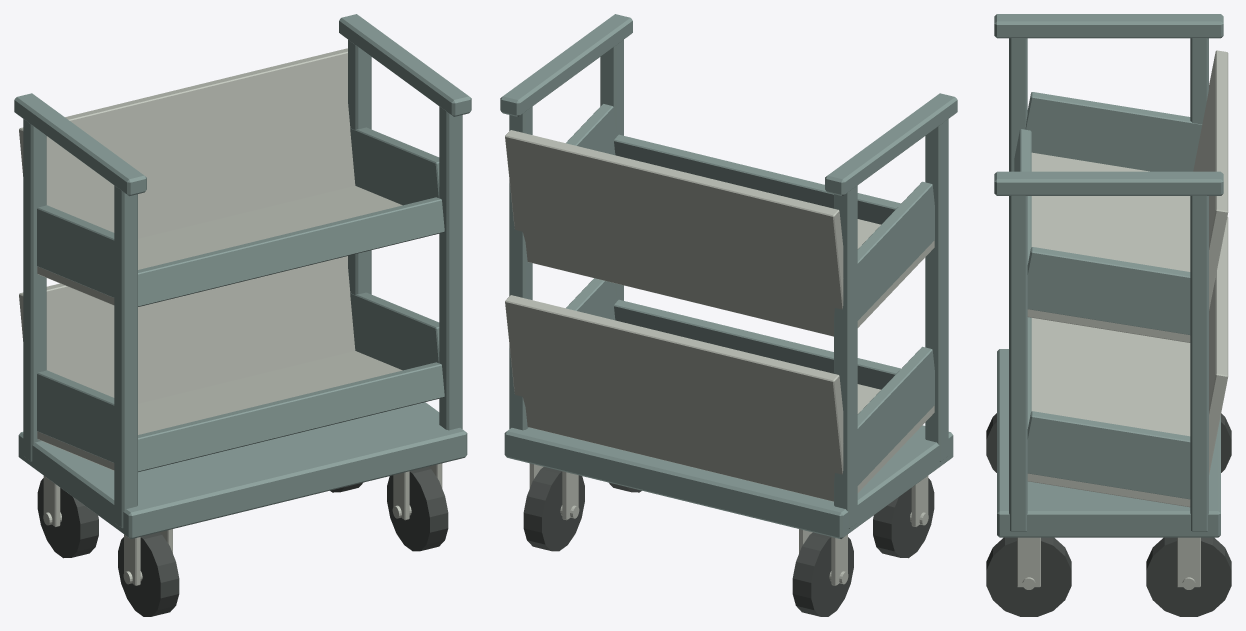
The picture shows the model from 3 angles, left to right: view 1: azimuth 30°, elevation 25°; view 2: azimuth 150°, elevation 25°; view 3: azimuth 270°, elevation 25°; orthographic projection.
Visible parts, largest first — view 1: Sorting shelf 1 continuous backstop, Sorting shelf 0 continuous backstop, Lower rigid caster chassis, Sorting shelf 1 front retaining lip, Sorting shelf 0 front retaining lip, Sorting shelf 1 floor, Sorting shelf 0 floor, Side upright -0.35 -0.17, Side upright 0.35 -0.17, Side upright -0.35 0.17, Sorting shelf 1 side stop -0.344, Sorting shelf 0 side stop -0.344 (+11 smaller); view 2: Sorting shelf 0 continuous backstop, Sorting shelf 1 continuous backstop, Lower rigid caster chassis, Side upright -0.35 -0.17, Side upright -0.35 0.17, Sorting shelf 0 front retaining lip, Sorting shelf 1 front retaining lip, Sorting shelf 0 side stop -0.344, Sorting shelf 1 side stop -0.344, Upper side handle rail -0.35, Upper side handle rail 0.35, Flat tread caster wheel.003 (+11 smaller); view 3: Sorting shelf 0 floor, Sorting shelf 1 floor, Lower rigid caster chassis, Sorting shelf 0 side stop 0.344, Sorting shelf 1 side stop 0.344, Sorting shelf 1 side stop -0.344, Side upright 0.35 -0.17, Side upright 0.35 0.17, Upper side handle rail 0.35, Upper side handle rail -0.35, Flat tread caster wheel.002, Flat tread caster wheel.003 (+10 smaller).
Boxes of the visible parts, bbox=[...] form: Sorting shelf 1 continuous backstop: bbox=[19, 48, 355, 238]; Sorting shelf 0 continuous backstop: bbox=[19, 256, 355, 403]; Lower rigid caster chassis: bbox=[18, 402, 467, 538]; Sorting shelf 1 front retaining lip: bbox=[138, 197, 444, 306]; Sorting shelf 0 front retaining lip: bbox=[138, 362, 444, 471]; Sorting shelf 1 floor: bbox=[37, 185, 402, 305]; Sorting shelf 0 floor: bbox=[37, 351, 402, 470]; Side upright -0.35 -0.17: bbox=[114, 185, 137, 528]; Side upright 0.35 -0.17: bbox=[439, 106, 462, 430]; Side upright -0.35 0.17: bbox=[23, 119, 46, 461]; Sorting shelf 1 side stop -0.344: bbox=[37, 205, 114, 297]; Sorting shelf 0 side stop -0.344: bbox=[37, 370, 114, 462]; Sorting shelf 0 continuous backstop: bbox=[505, 295, 843, 501]; Sorting shelf 1 continuous backstop: bbox=[505, 130, 843, 336]; Lower rigid caster chassis: bbox=[504, 425, 953, 538]; Side upright -0.35 -0.17: bbox=[925, 119, 948, 461]; Side upright -0.35 0.17: bbox=[834, 185, 857, 528]; Sorting shelf 0 front retaining lip: bbox=[614, 299, 900, 389]; Sorting shelf 1 front retaining lip: bbox=[614, 134, 900, 224]; Sorting shelf 0 side stop -0.344: bbox=[843, 346, 934, 485]; Sorting shelf 1 side stop -0.344: bbox=[843, 181, 934, 320]; Upper side handle rail -0.35: bbox=[825, 93, 957, 196]; Upper side handle rail 0.35: bbox=[500, 14, 632, 116]; Flat tread caster wheel.003: bbox=[523, 467, 584, 551]; Sorting shelf 0 floor: bbox=[1027, 318, 1190, 507]; Sorting shelf 1 floor: bbox=[1027, 152, 1190, 342]; Lower rigid caster chassis: bbox=[997, 349, 1220, 537]; Sorting shelf 0 side stop 0.344: bbox=[1027, 411, 1190, 499]; Sorting shelf 1 side stop 0.344: bbox=[1027, 247, 1190, 334]; Sorting shelf 1 side stop -0.344: bbox=[1025, 92, 1202, 171]; Side upright 0.35 -0.17: bbox=[1009, 195, 1027, 531]; Side upright 0.35 0.17: bbox=[1190, 195, 1208, 531]; Upper side handle rail 0.35: bbox=[994, 171, 1223, 195]; Upper side handle rail -0.35: bbox=[994, 14, 1223, 38]; Flat tread caster wheel.002: bbox=[986, 537, 1071, 616]; Flat tread caster wheel.003: bbox=[1146, 537, 1231, 616].
Bounding box in the file's own units: 0.743 × 0.9325 × 0.46.
